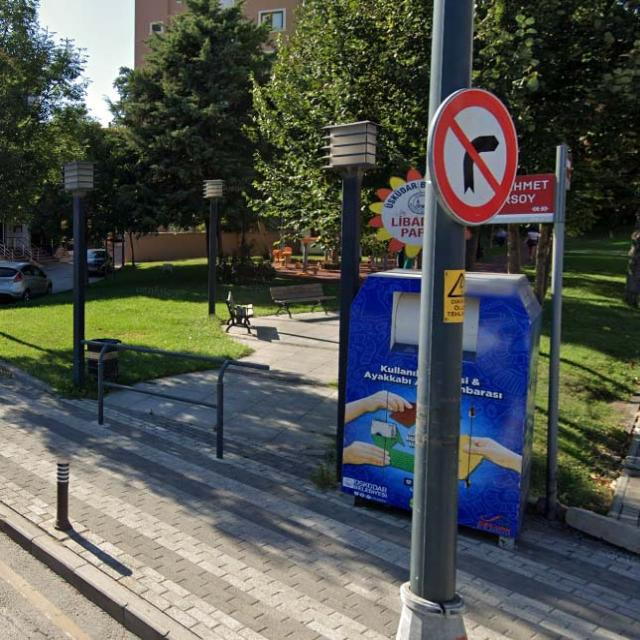sagadonulmez: (429, 90, 517, 223)
